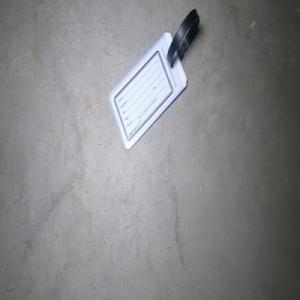LuggageTag: (107, 7, 200, 152)
